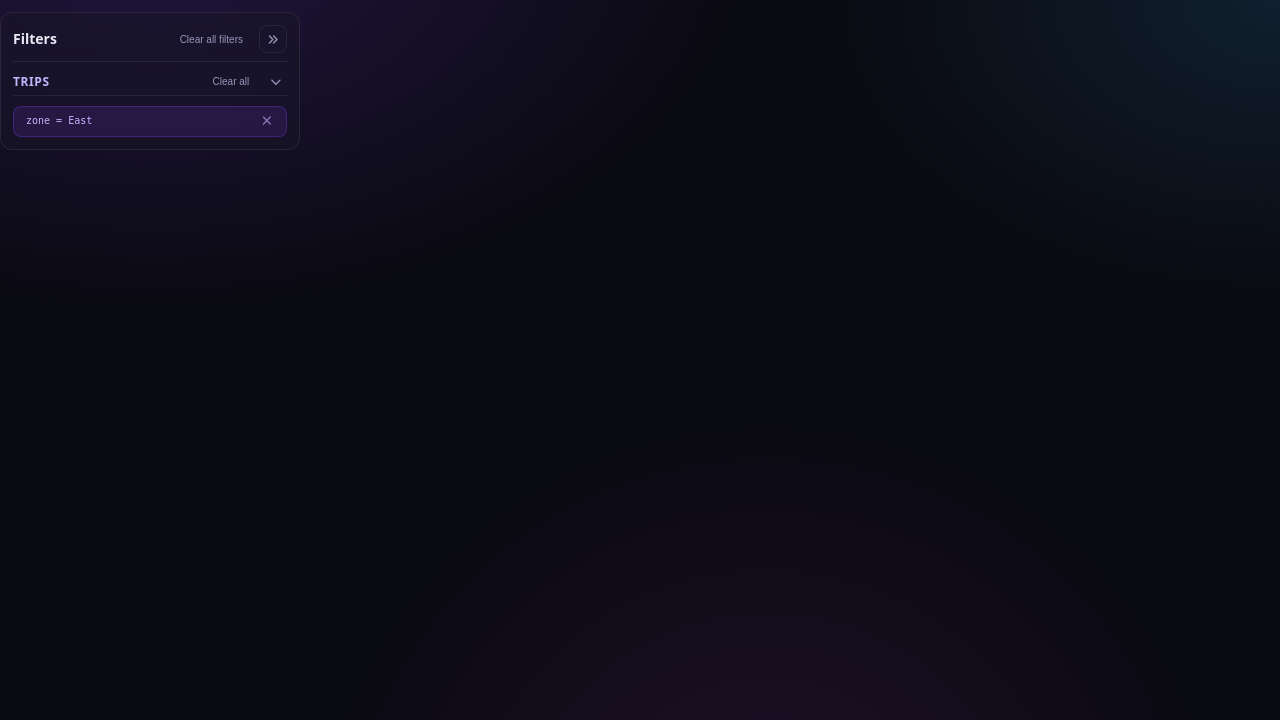
Test case: FilterPanel › clicking a group's collapse toggle unmounts that group's chip list
Check: the element with class "filter-panel-chips" is shown, box [13,106,287,136]
Click the button named "Collapse trips filters".
click(276, 82)  # box [265,72,287,91]
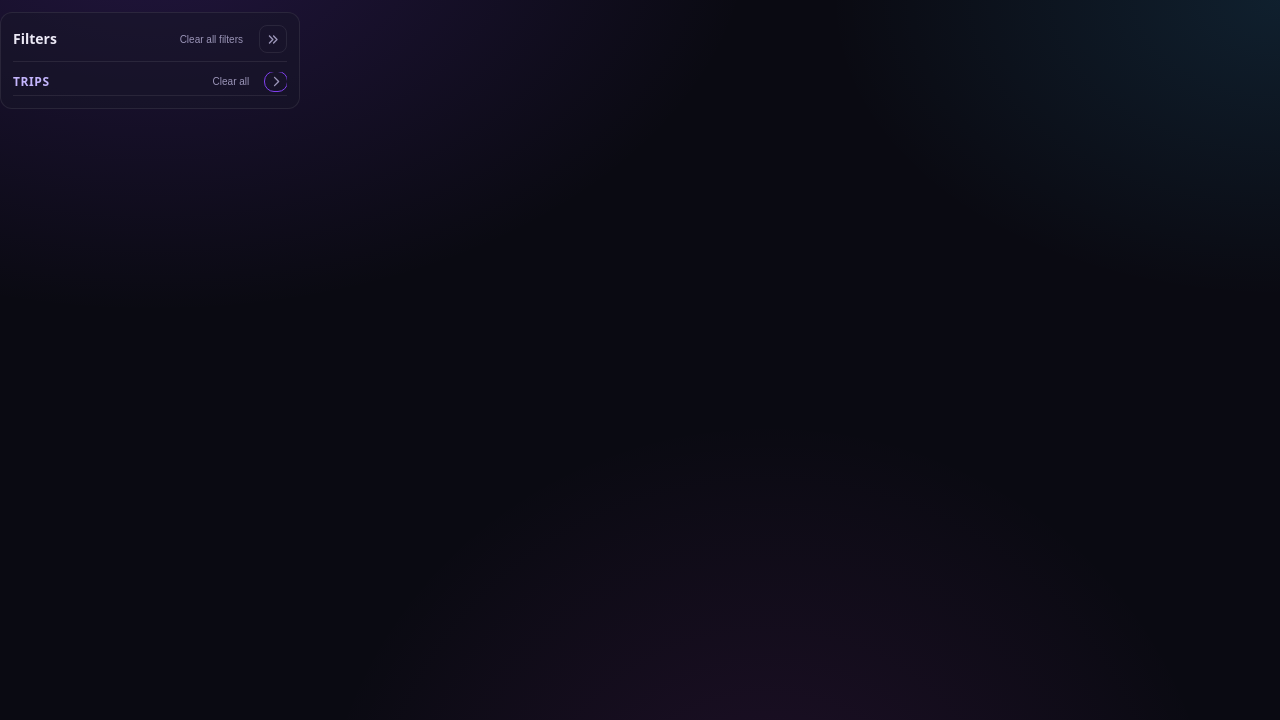
Check: the element with class "filter-panel-chips" is gone
